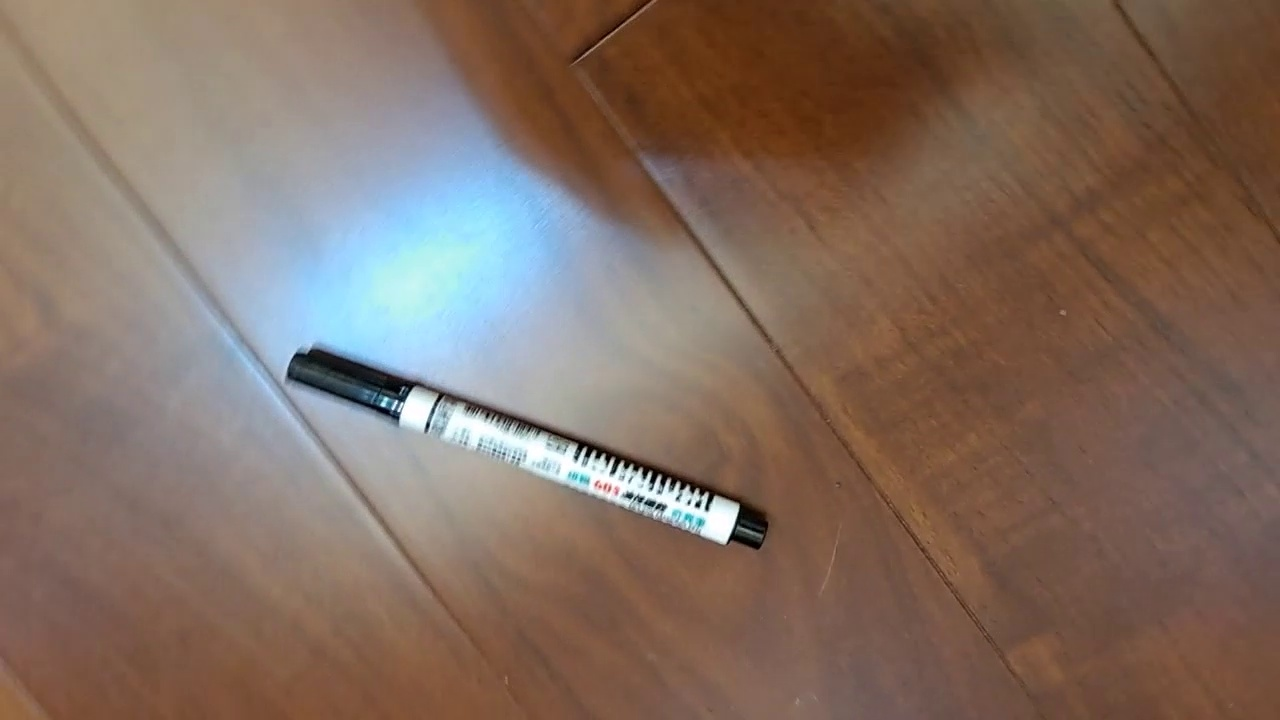pen: (284, 345, 769, 551)
